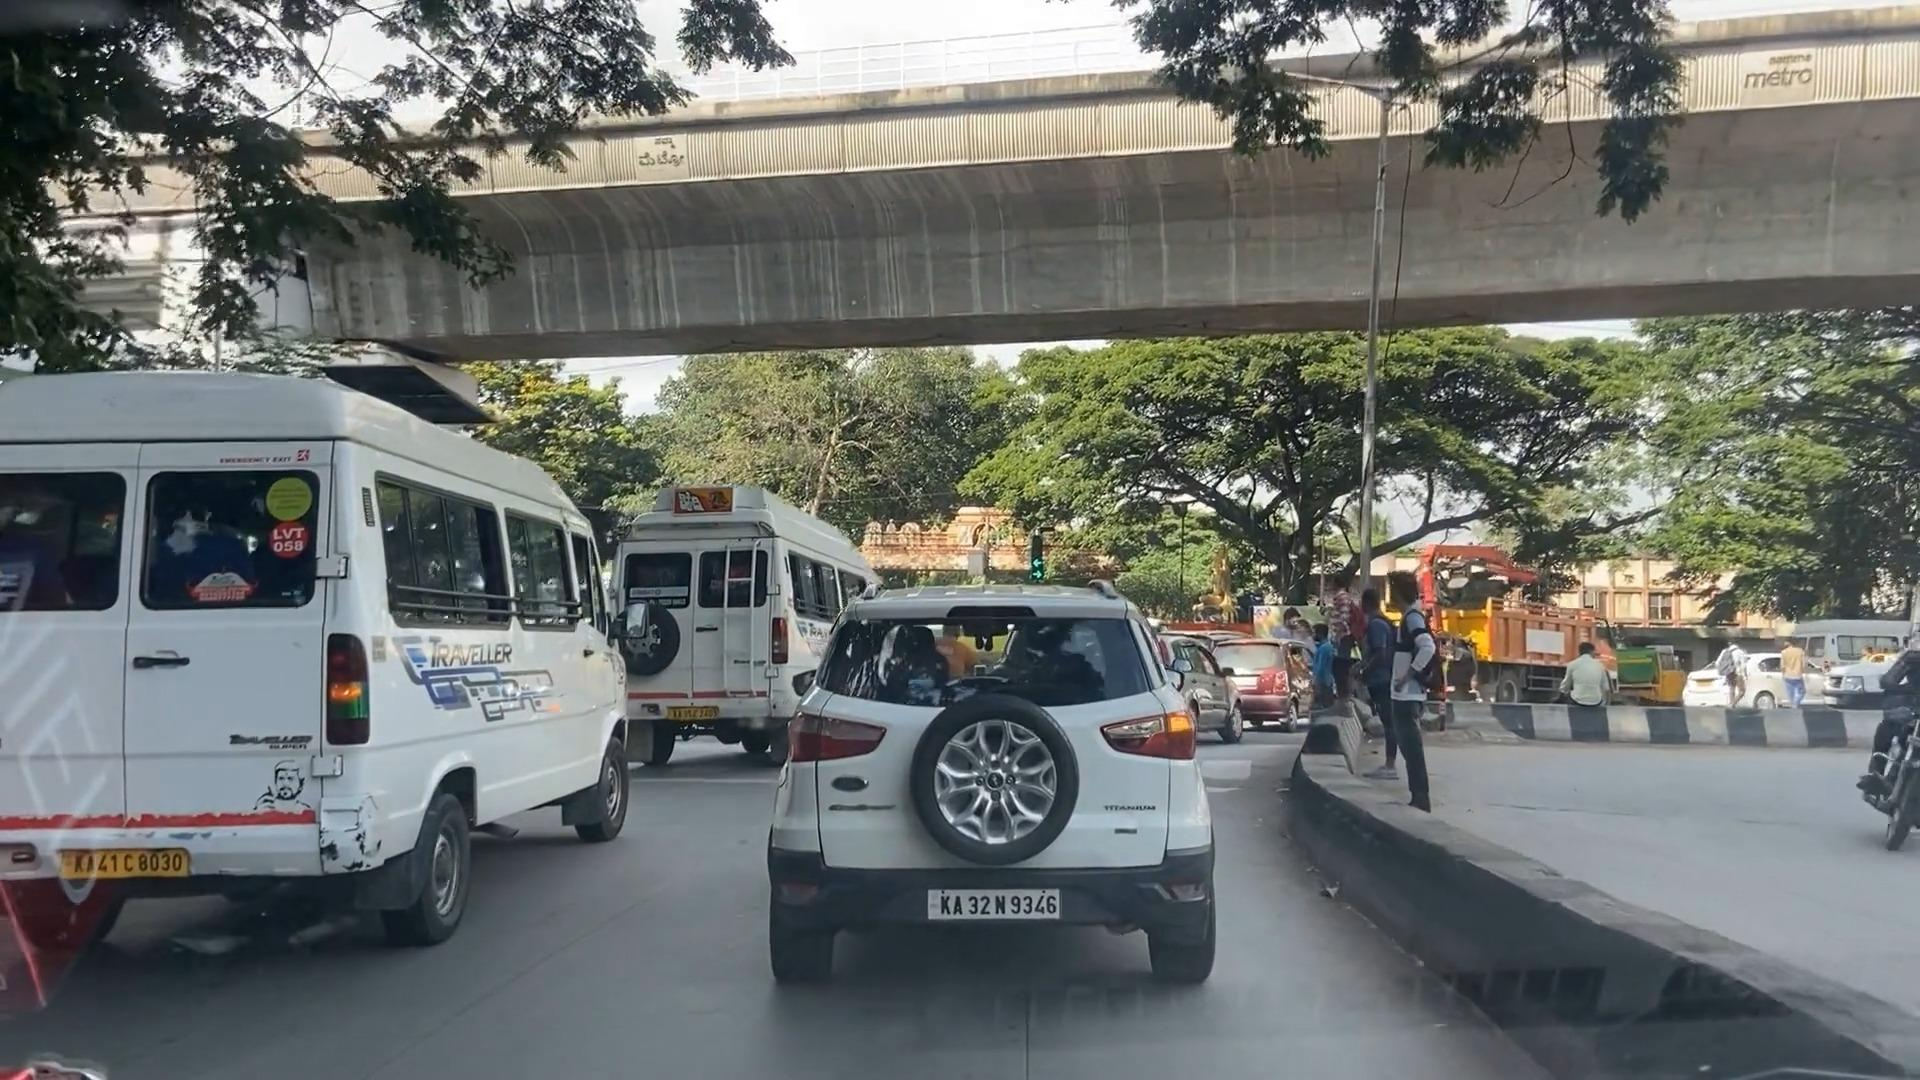HMV: (3, 368, 659, 955), (625, 501, 810, 740)
LMV: (814, 596, 1213, 986)
